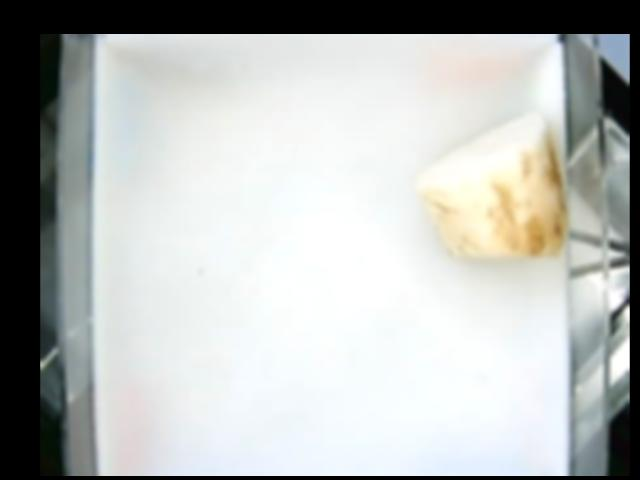Mooli: (415, 111, 566, 259)
